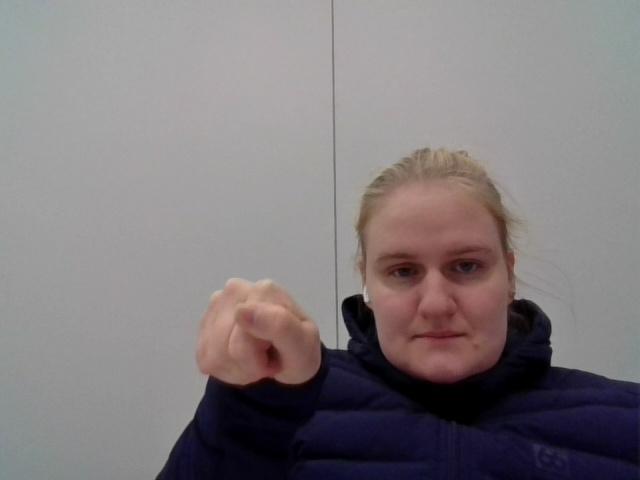down: (178, 262, 339, 405)
